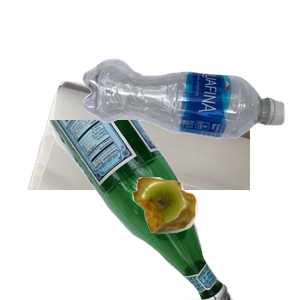glass: (37, 120, 262, 300)
paper: (25, 79, 265, 259)
plastic: (80, 56, 300, 187)
trash: (130, 175, 300, 300)
